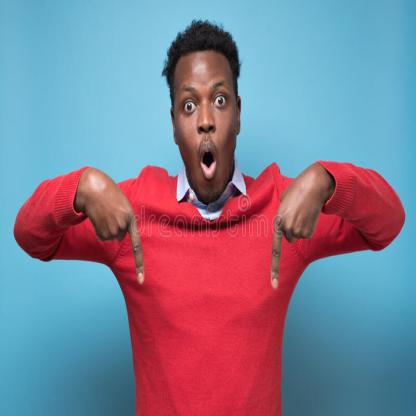Down: (75, 157, 153, 299), (268, 164, 335, 305)
